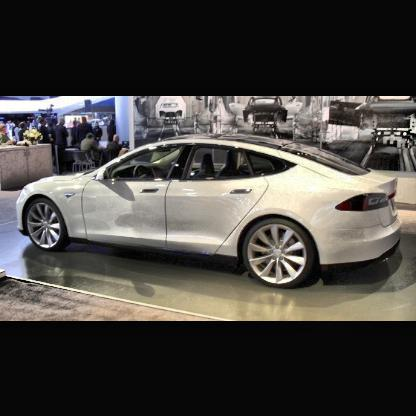Tesla Model S Sedan 2012: (17, 137, 401, 287)
